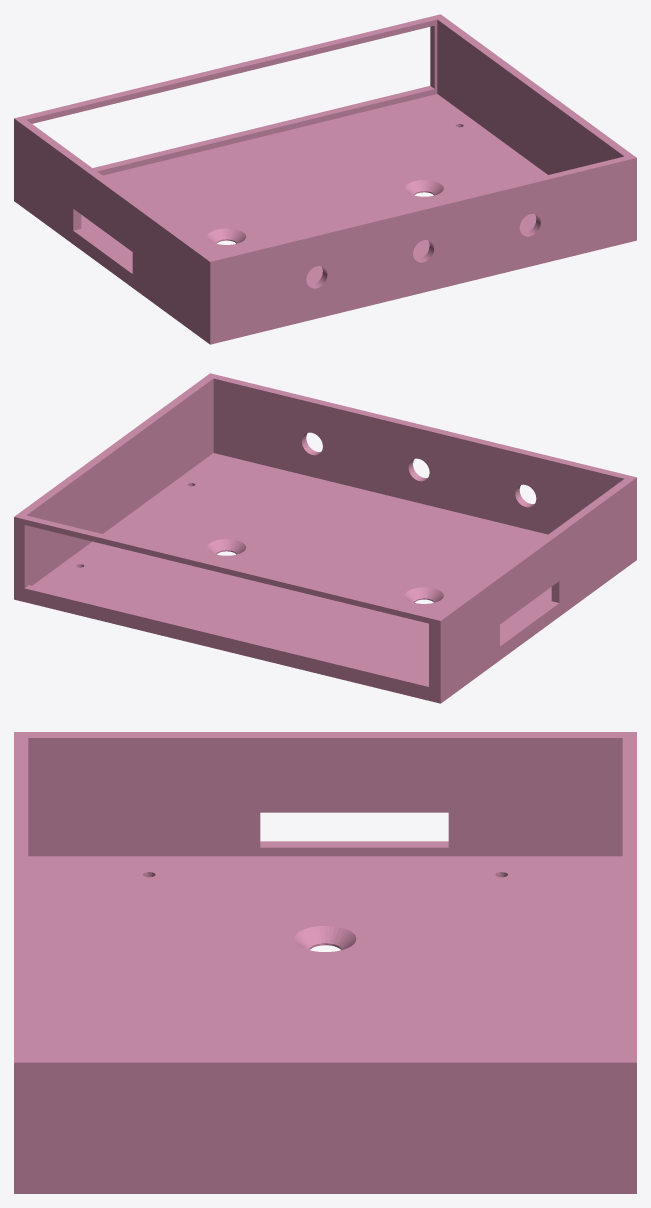
Rendered from Official OwlBox Bottom Standard Case Rev. 1.glb.
The picture shows the model from 3 angles, top to bottom: view 1: azimuth 30°, elevation 25°; view 2: azimuth 150°, elevation 25°; view 3: azimuth 270°, elevation 25°; orthographic projection. The views are drawn at different scales.
Visible parts, largest first — view 1: Mesh_Mesh_head_geo.001_lambert2SG.001; view 2: Mesh_Mesh_head_geo.001_lambert2SG.001; view 3: Mesh_Mesh_head_geo.001_lambert2SG.001.
Part boxes in pixels (left/top/right/bottom): Mesh_Mesh_head_geo.001_lambert2SG.001: left=14, top=14, right=636, bottom=344; Mesh_Mesh_head_geo.001_lambert2SG.001: left=14, top=373, right=636, bottom=703; Mesh_Mesh_head_geo.001_lambert2SG.001: left=14, top=732, right=636, bottom=1193.
Size of the model in its own units: 162 by 30 by 129.
